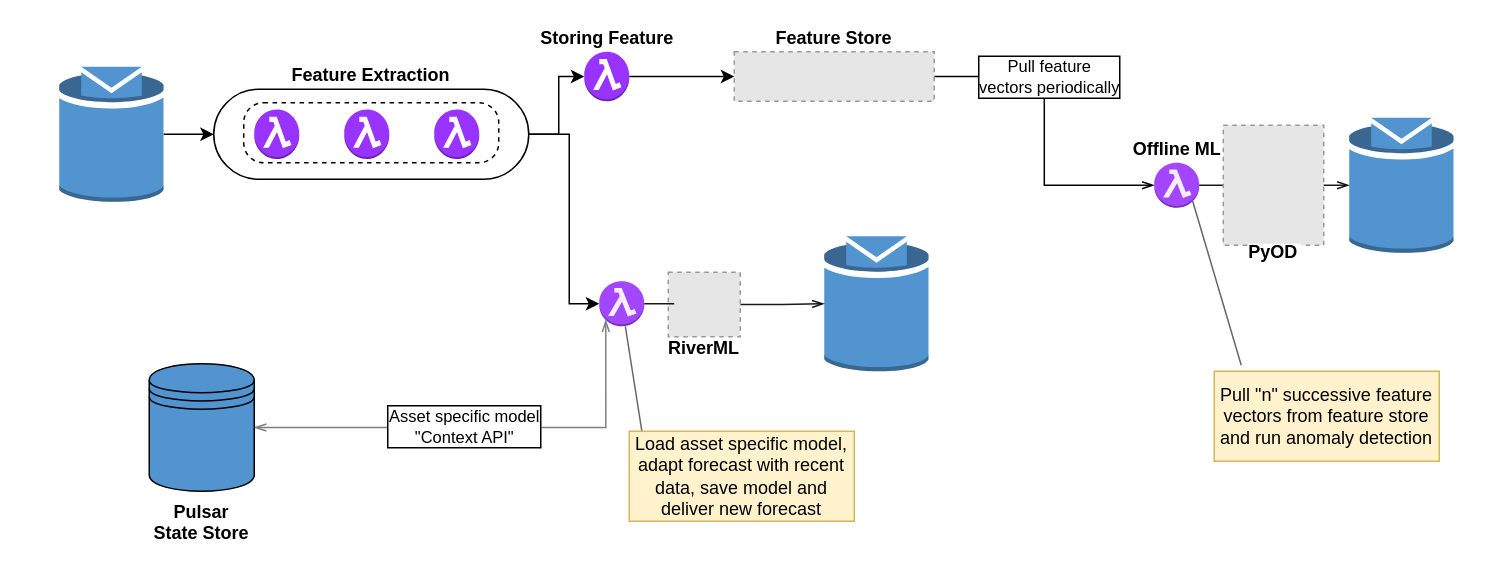
This 1497x570 diagram has some shape labels left out. Grey dashed boxes stand in for pictures. Here are the shapes that lost their labels. From the top down, the centre of each, then its label:
At [111,133]: "Original Message(s)".
At [1401,184]: "Anomaly scores".
At [621,303]: "Online ML".
At [875,303]: "Forecasts".
